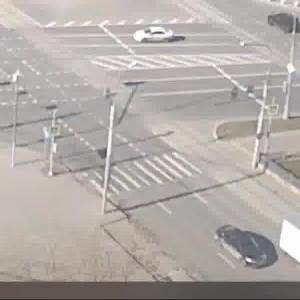car: (210, 224, 274, 268), (130, 24, 192, 50), (265, 11, 300, 34)
